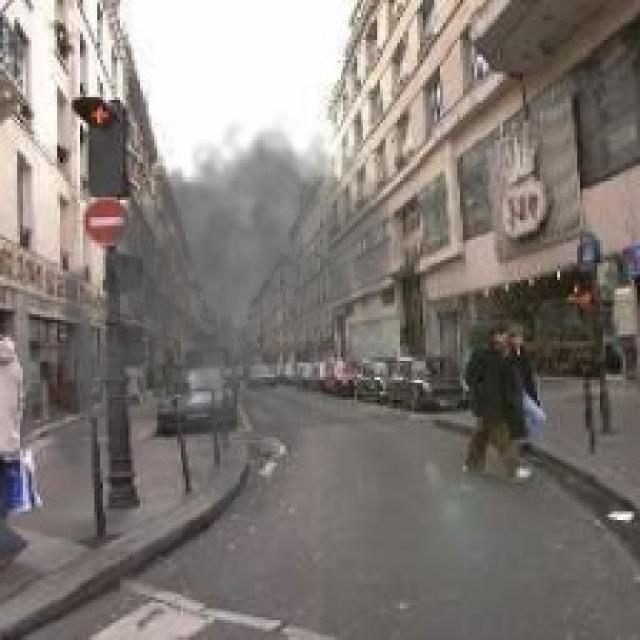Smoke: (34, 108, 403, 514)
